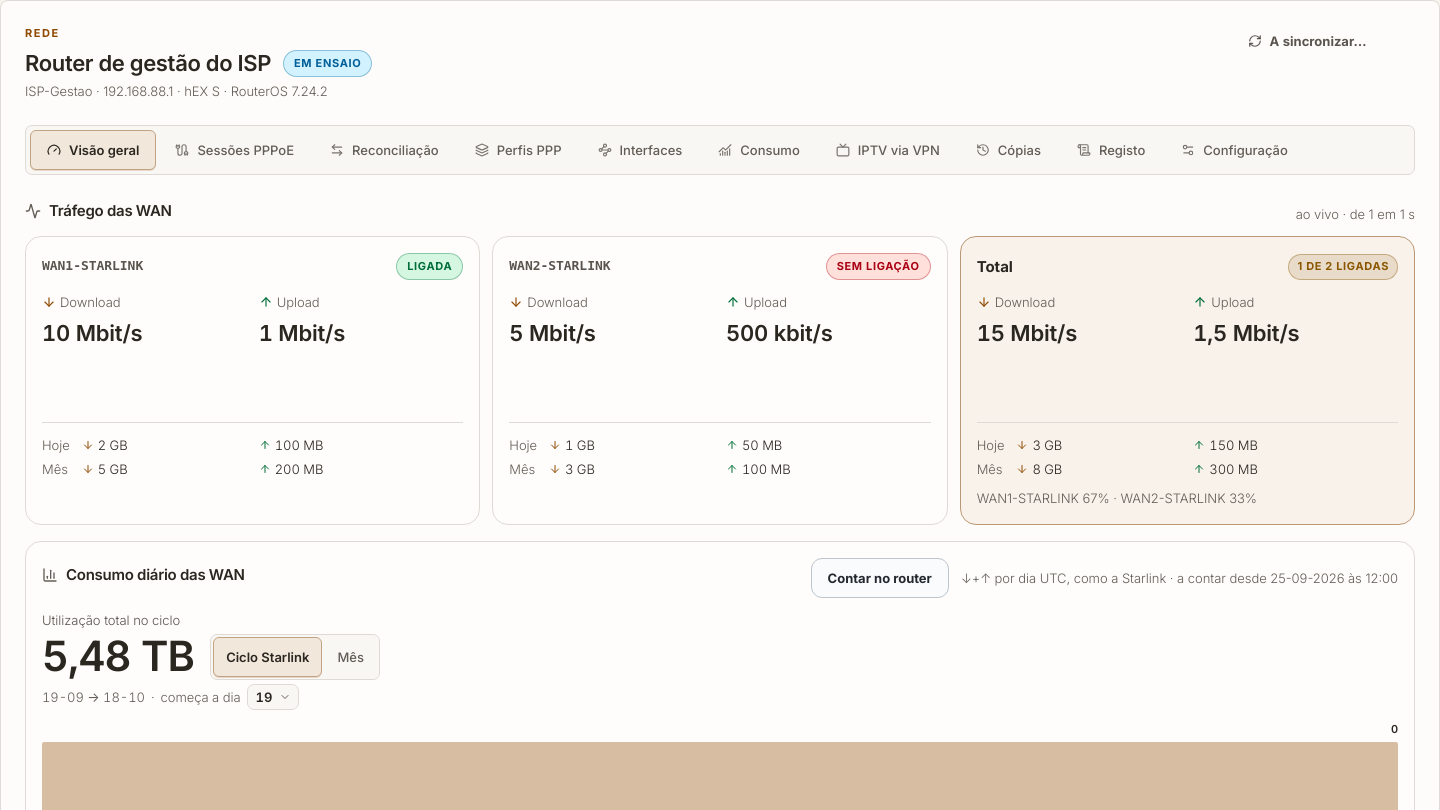
Test: Router de gestão › o histórico mostra o total do ciclo Starlink ou do mês, por WAN e somado, e muda o início do ciclo
This screenshot has width=1440, height=810.
Expected: the element with class "router-usage-summary" shows "Utilização total no ciclo", [42, 612, 180, 628]
Expected: the element with class "router-usage-summary" shows "19-09 → 18-10", [42, 689, 145, 705]
Select "5" in the dropdown named "Dia de início do ciclo Starlink" at (272, 697), box [246, 684, 298, 710]
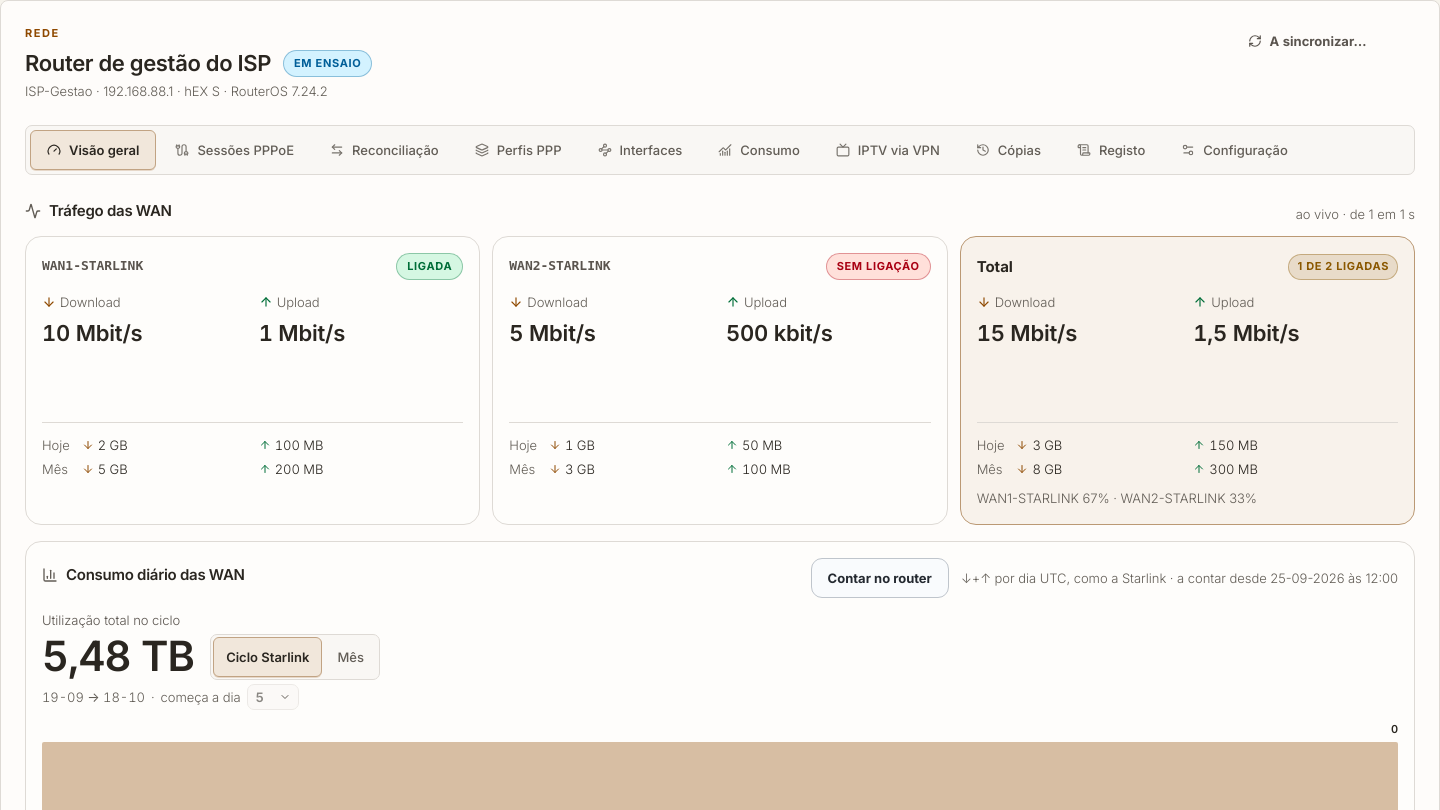
Click the button "Mês" at (351, 657), box [324, 637, 377, 677]
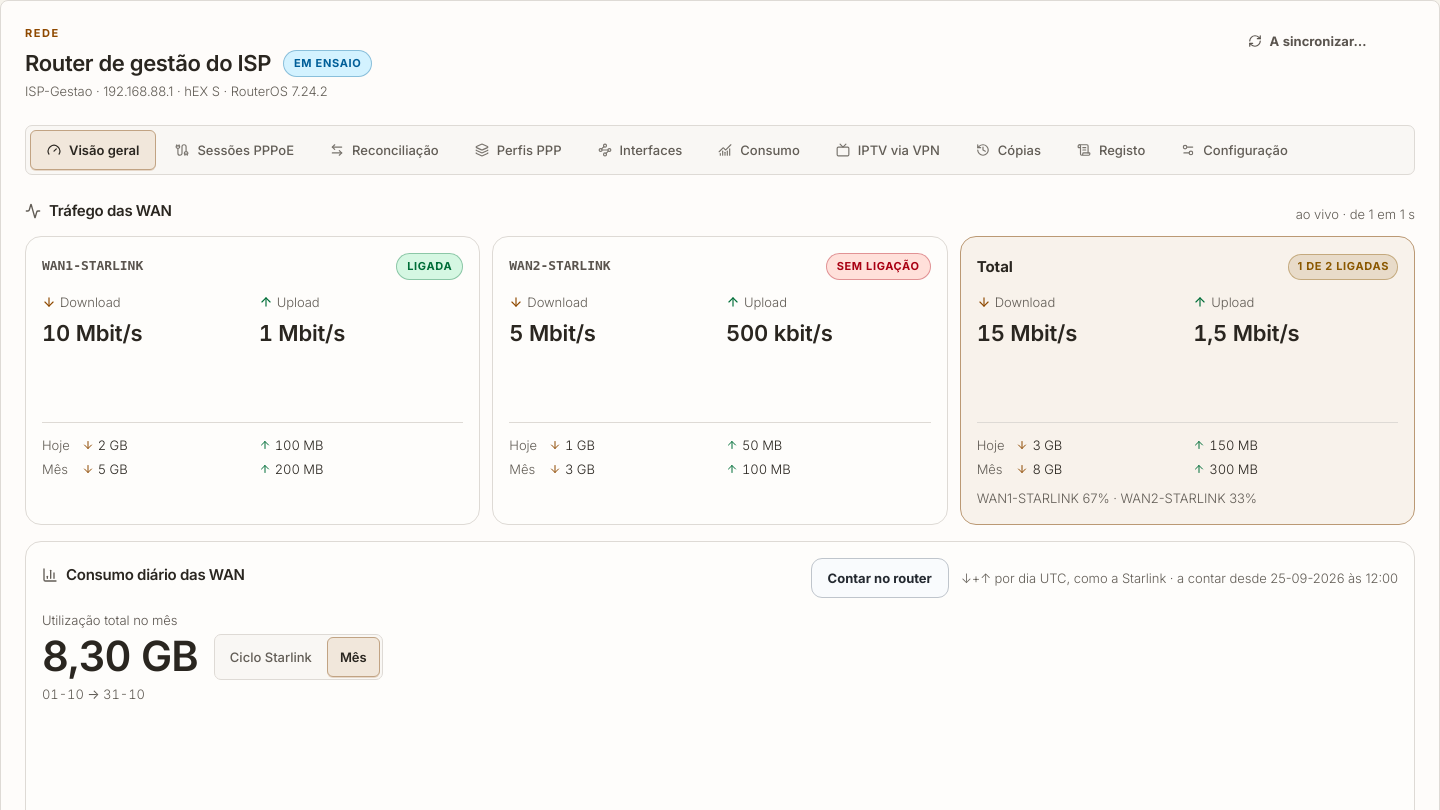
Result: the element with class "router-usage-summary" shows "Utilização total no mês" at [42, 612, 178, 628]
Result: the element with class "router-usage-summary" shows "01-10 → 31-10" at [42, 686, 145, 702]
Result: no elements with class "router-usage-day" are shown
